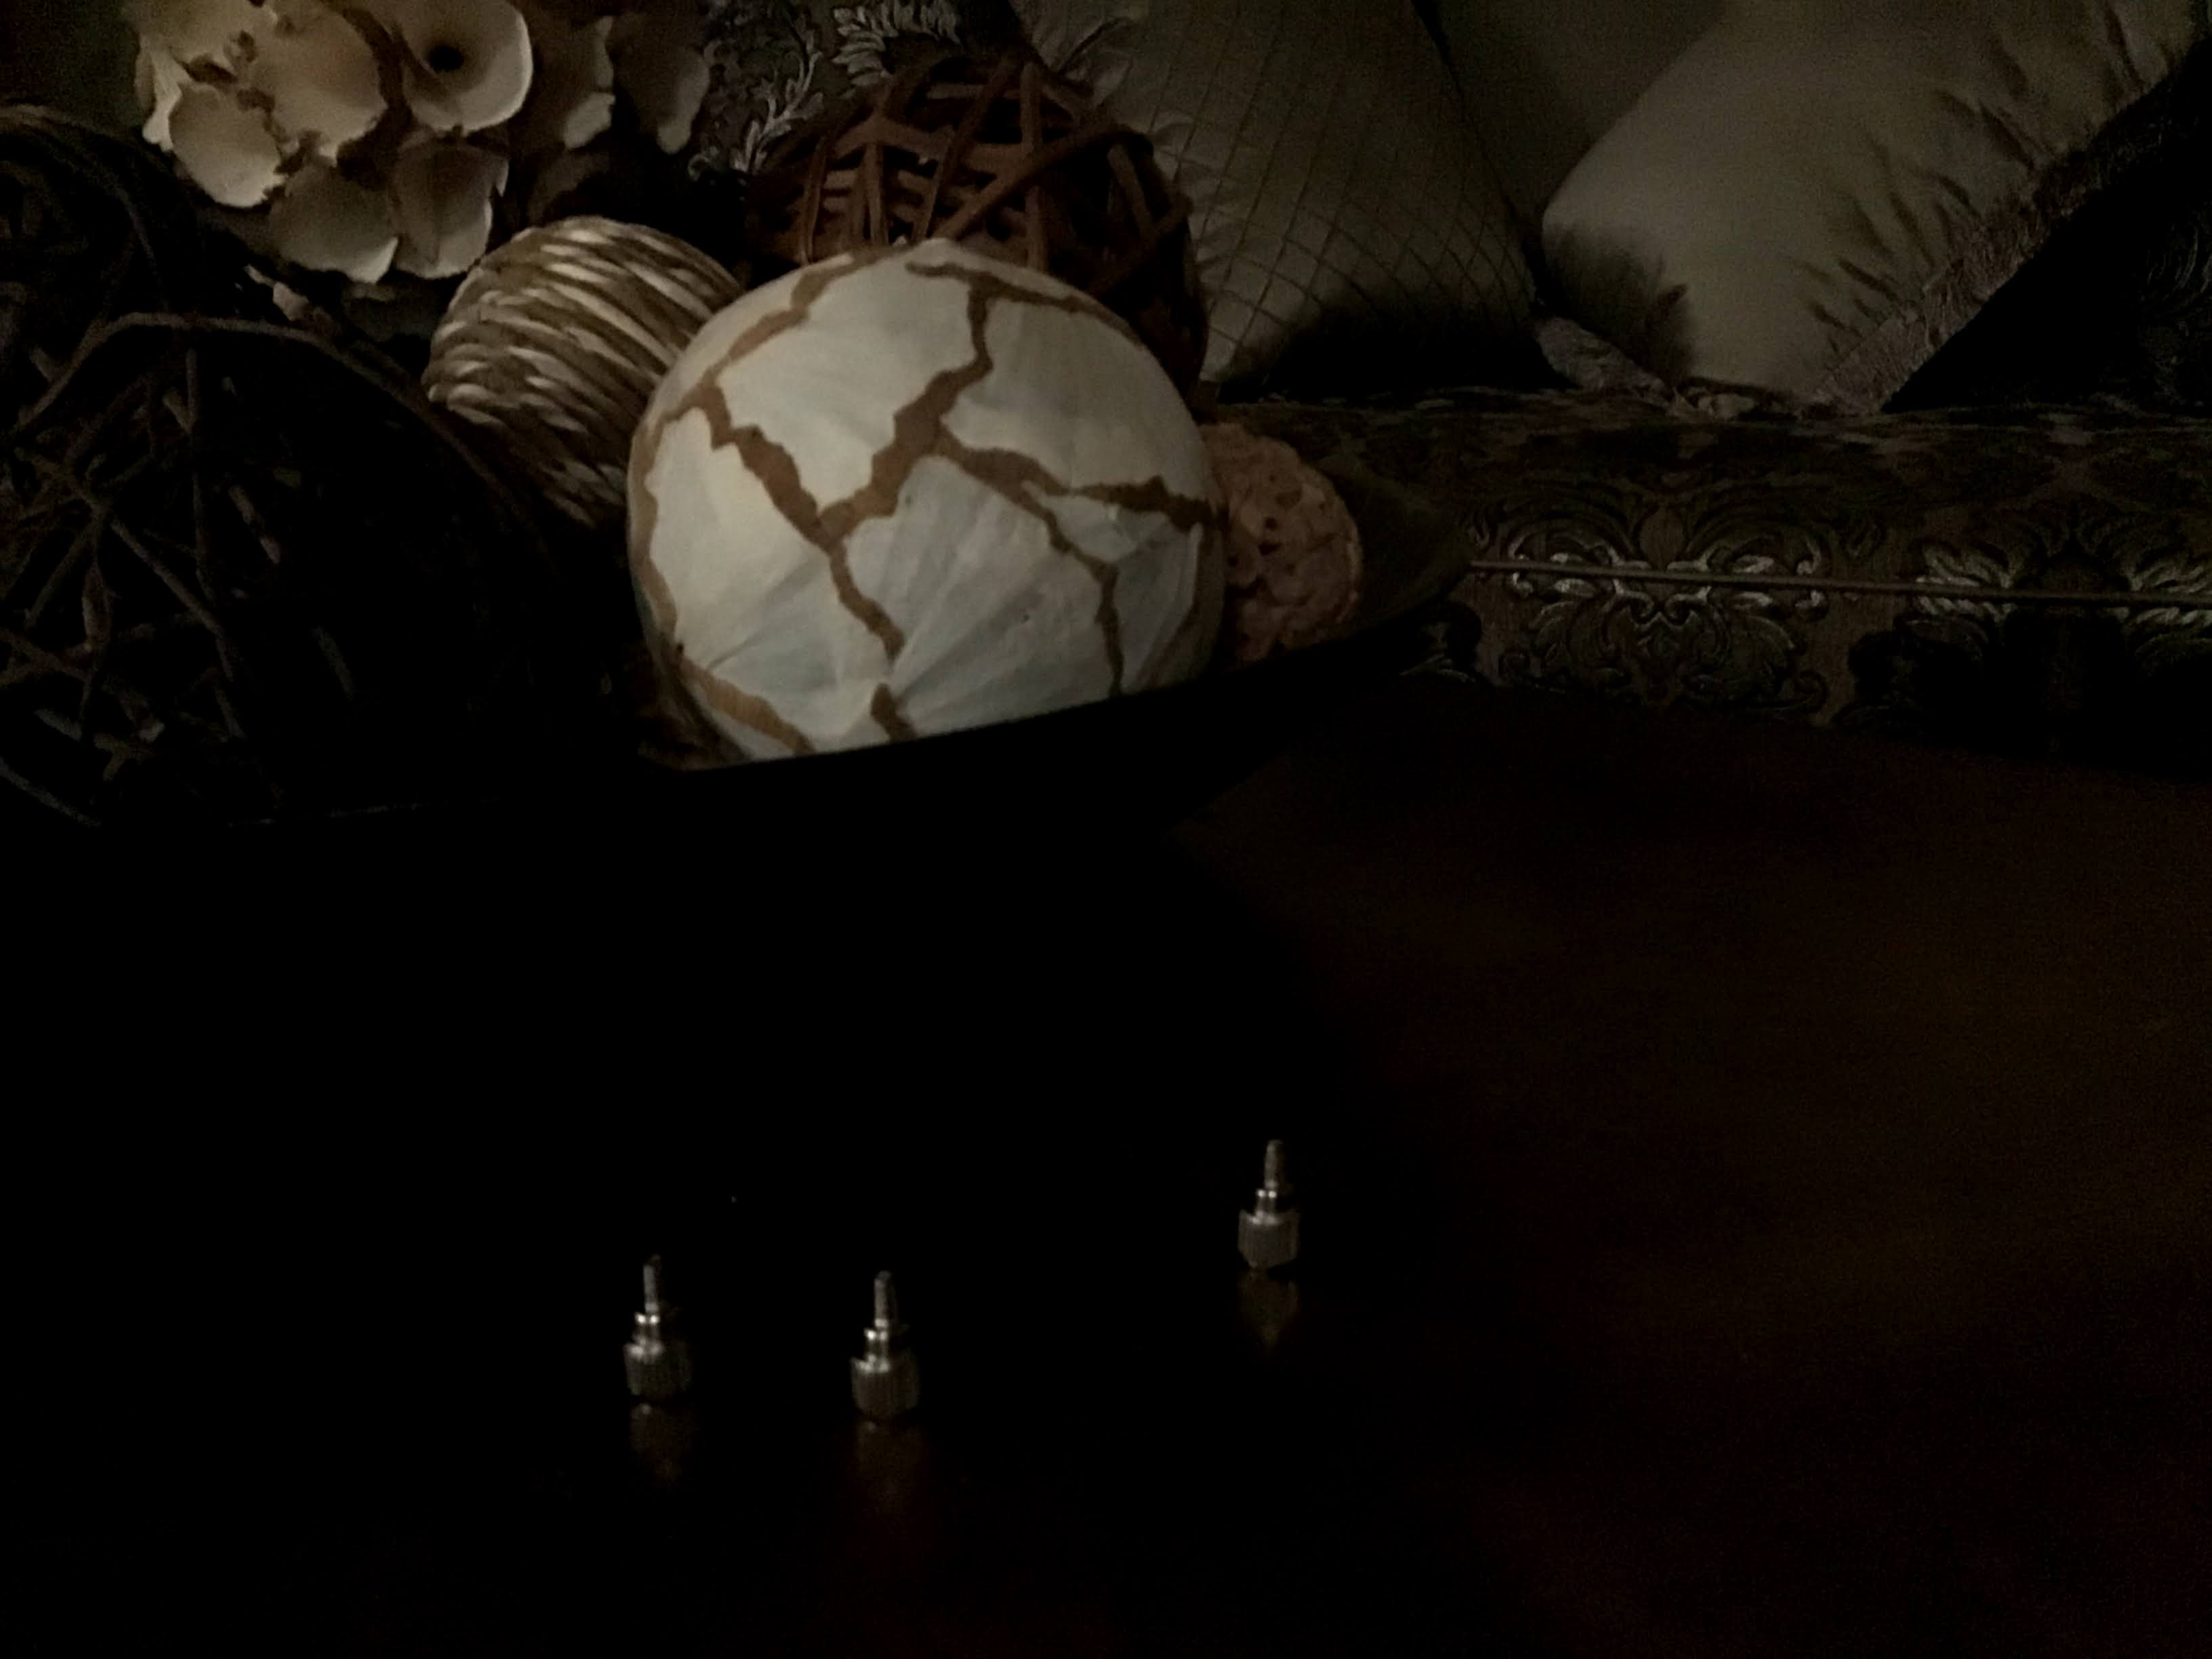Space-debris-small: (599, 1249, 705, 1410), (1217, 1131, 1327, 1286), (852, 1262, 920, 1424)
